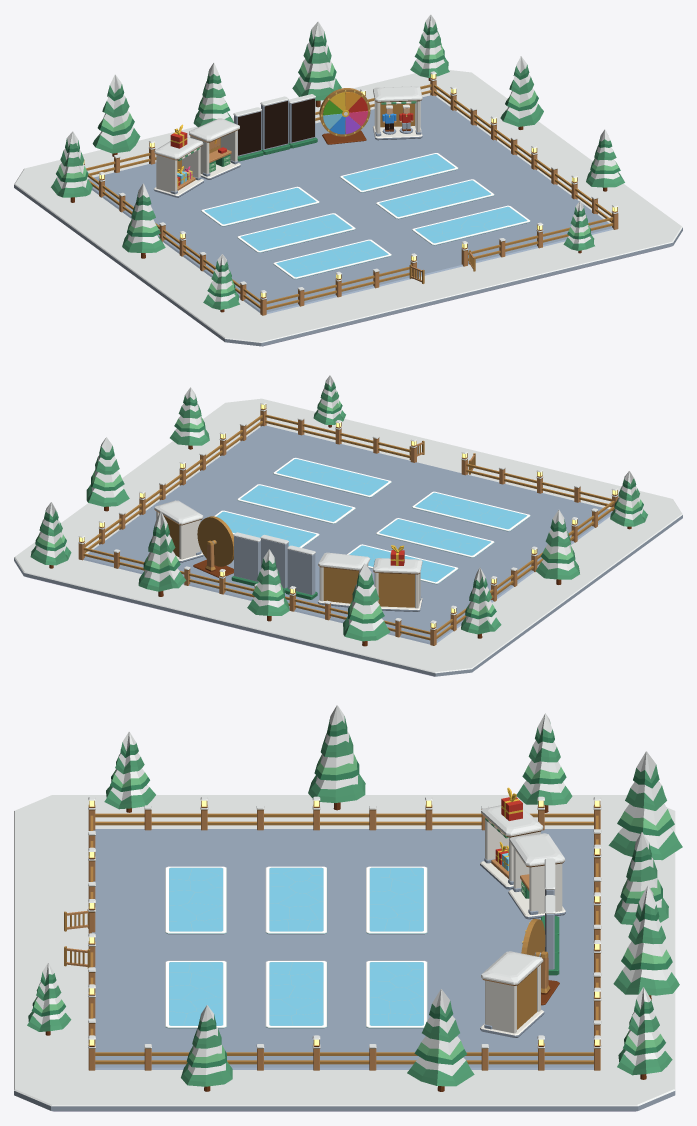
Rendered from WinterLobby.glb.
The picture shows the model from 3 angles, top to bottom: view 1: azimuth 30°, elevation 25°; view 2: azimuth 150°, elevation 25°; view 3: azimuth 270°, elevation 25°; orthographic projection. The views are drawn at different scales.
Parts seen in each view (by area): view 1: SnowGround, Rewards, Classes, PrizeWheel_Kiosk, Fence_Right, Station01, Station02, Station04, Station03, Station05, Station06, Upgrades (+17 smaller); view 2: SnowGround, Rewards, Fence_Back, Fence_Right, Station01, Station02, Station03, Station04, SnowFir04, SnowFir06, Upgrades, PrizeWheel_Kiosk (+17 smaller); view 3: SnowGround, Fence_Left, Fence_Right, Classes, Station03, Station04, Station01, Station05, Station06, SnowFir04, Station02, SnowFir06 (+15 smaller).
Boxes of the visible parts, x1,y1,x2,y2 form: SnowGround: (14,70,682,346); Rewards: (153,124,203,197); Classes: (373,86,422,140); PrizeWheel_Kiosk: (319,88,370,144); Fence_Right: (434,84,618,229); Station01: (273,239,391,279); Station02: (412,205,530,245); Station04: (376,179,494,219); Station03: (237,213,355,252); Station05: (201,186,319,226); Station06: (340,153,458,192); Upgrades: (189,118,240,179); SnowGround: (14,398,682,676); Rewards: (373,545,422,611); Fence_Back: (78,534,436,645); Fence_Right: (85,401,266,552); Station01: (412,491,530,531); Station02: (273,457,391,497); Station03: (376,518,494,557); Station04: (237,484,355,523); SnowFir04: (343,563,390,646); SnowFir06: (138,511,186,596); Upgrades: (318,552,370,607); PrizeWheel_Kiosk: (193,516,233,577); SnowGround: (14,795,675,1111); Fence_Left: (88,796,593,830); Fence_Right: (88,1035,593,1070); Classes: (480,951,544,1037); Station03: (265,866,327,934); Station04: (265,960,327,1028); Station01: (165,866,226,934); Station05: (366,866,427,934); Station06: (366,960,427,1028); SnowFir04: (608,751,682,860); Station02: (165,960,226,1028); SnowFir06: (613,885,679,1000).
Bounding box in the file's own units: 27.72 × 5.22 × 25.2.
3 materials, 1 textured.
